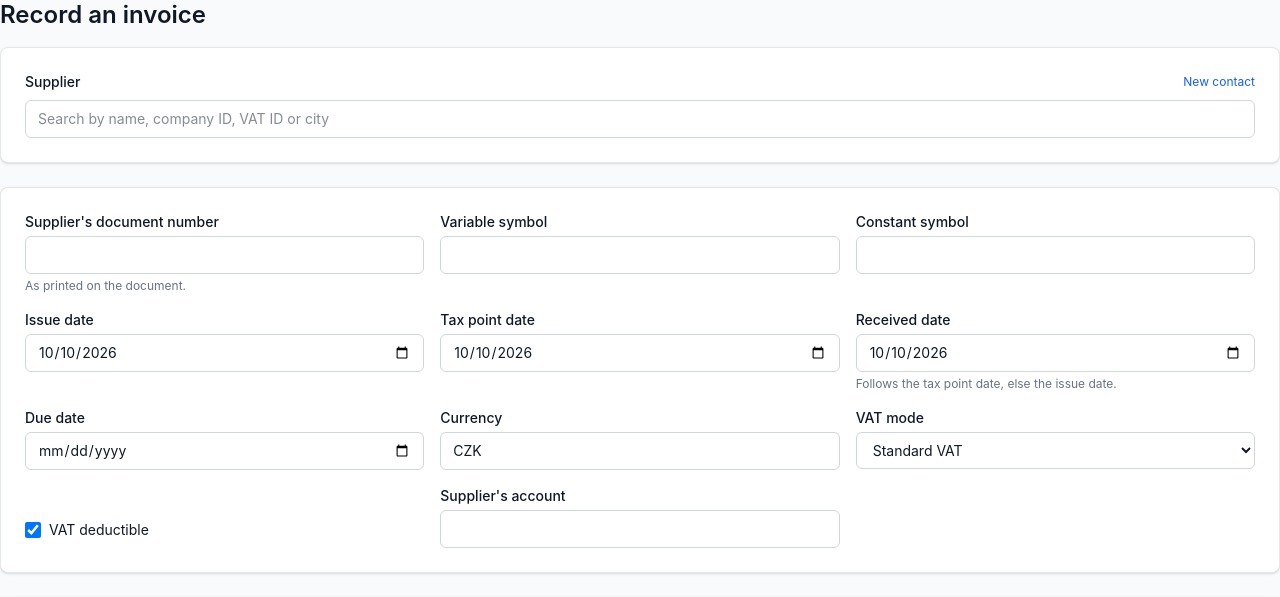
Test: ReceivedEditView › follows the tax point with the received date and the total with the payable until edited
Type "2026-09-30" into the date field with id "rec-taxPointDate" at (640, 353), box [440,334,840,372]
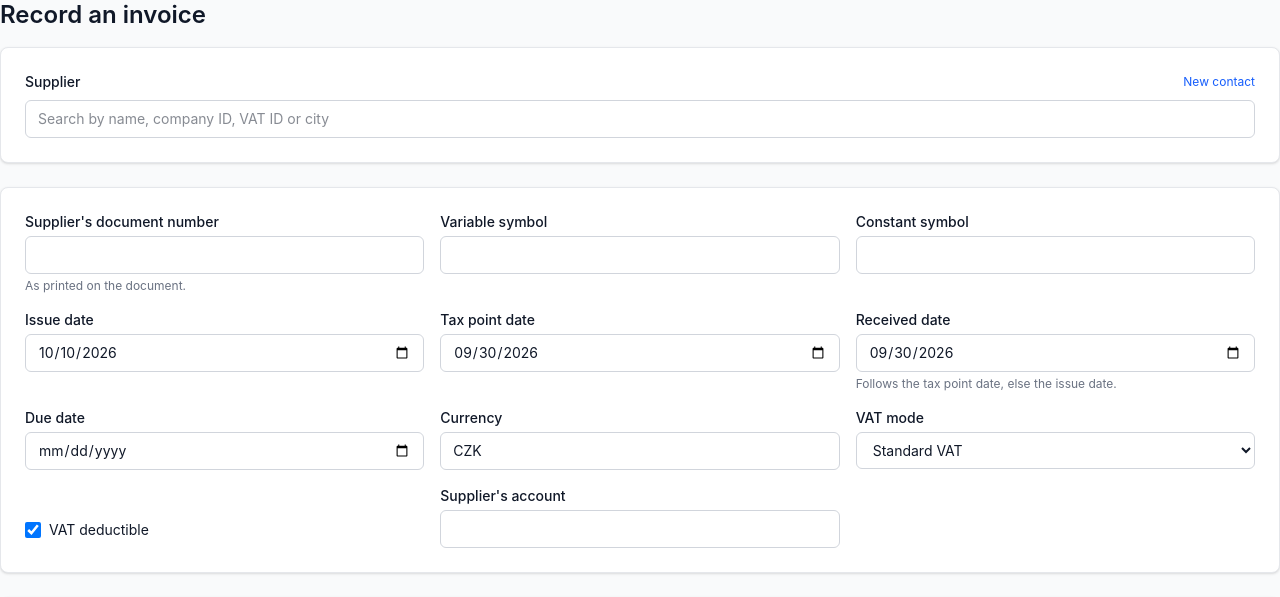
expect the date field with id "rec-receivedDate" holds "2026-09-30": met
Type "2026-10-02" into the date field with id "rec-receivedDate" at (1055, 353), box [856,334,1255,372]
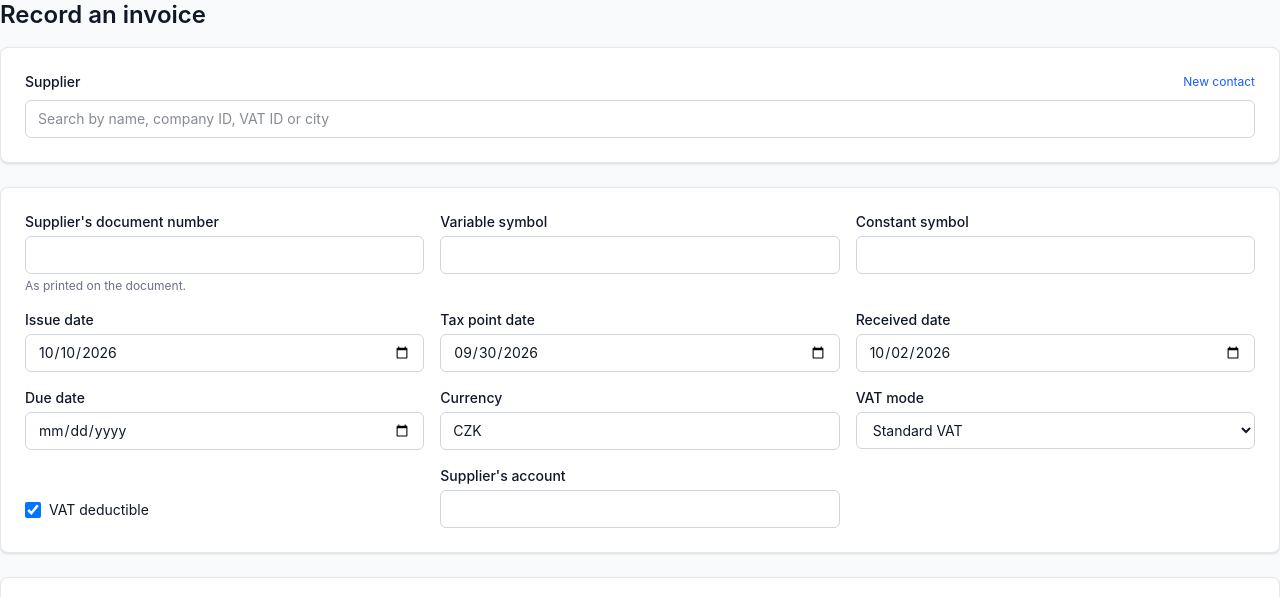
Type "2026-09-29" into the date field with id "rec-taxPointDate" at (640, 353), box [440,334,840,372]
(page scrolled)
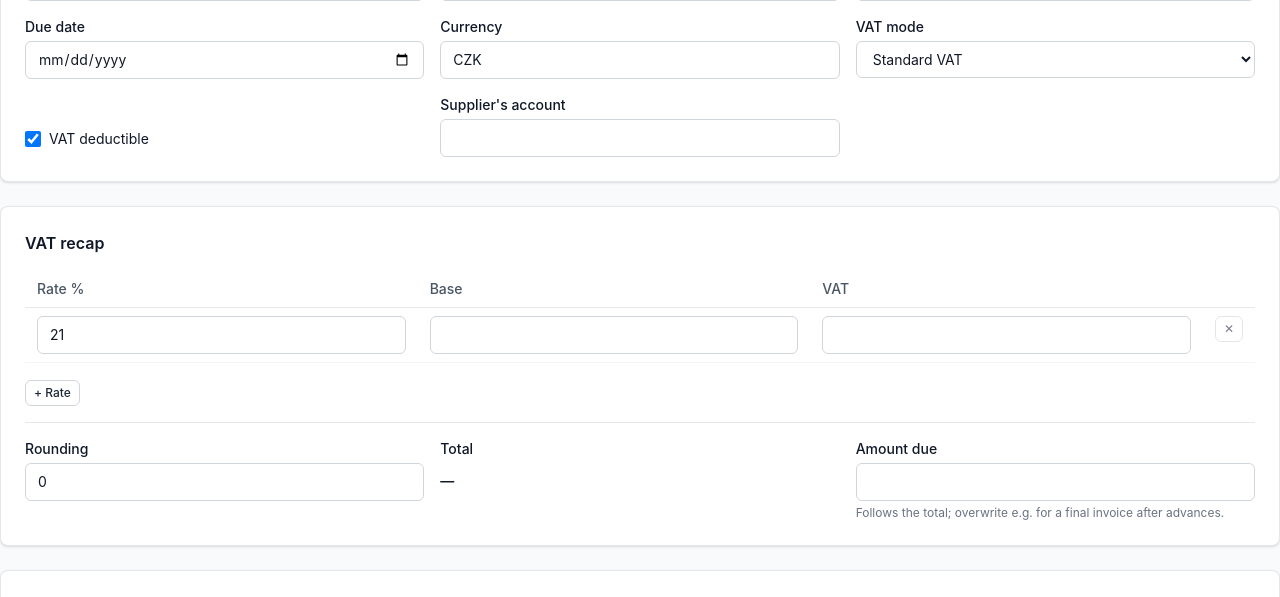
Type "1000" into the field with id "recap-0-base" at (614, 335), box [430,316,798,354]
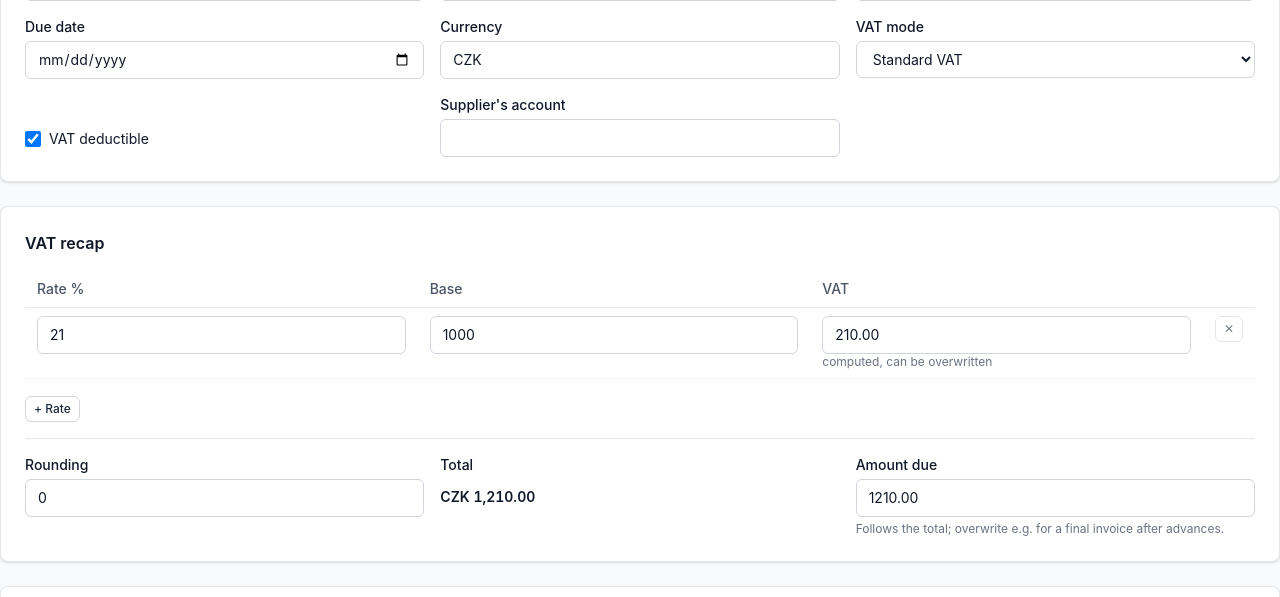
expect the field with id "recap-0-vat" holds "210.00": met, box [822,316,1191,354]
expect the text with test id "recap-total" shows "1,210.00": met, box [440,488,535,505]
expect the field with id "rec-payable" holds "1210.00": met
Replace the text in the field with id "rec-payable" with "500" at (1055, 498), box [856,479,1255,517]
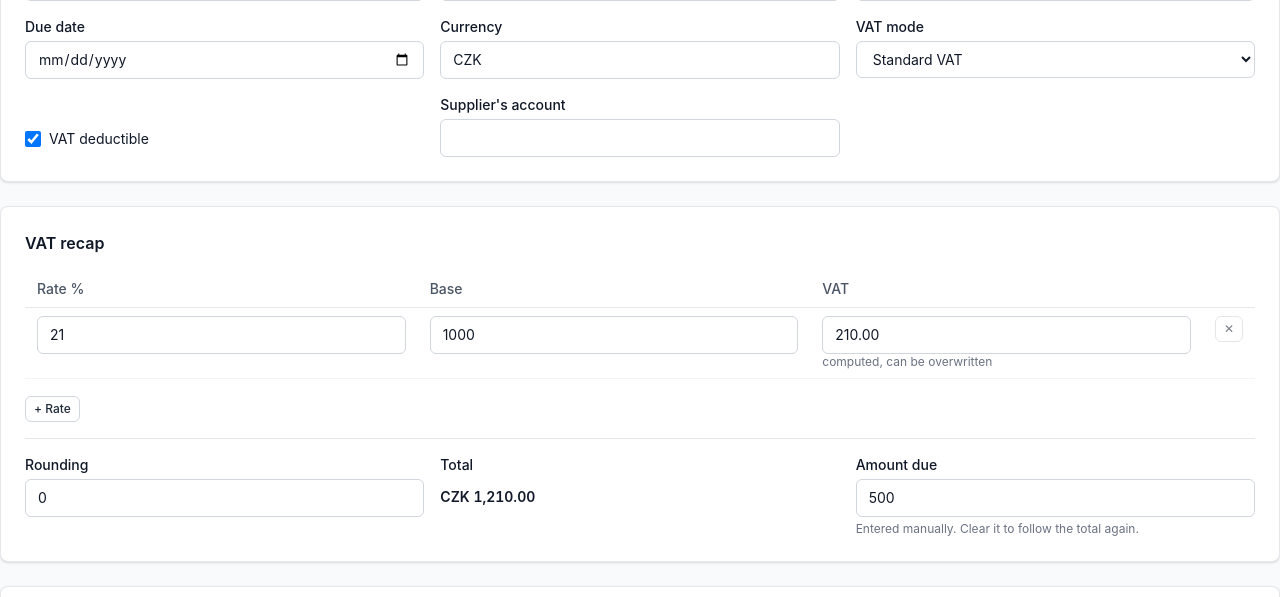
Replace the text in the field with id "recap-0-base" with "2000" at (614, 335), box [430,316,798,354]
Select "Reverse charge" in the dropdown with id "rec-vatMode" at (1055, 60), box [856,41,1255,78]
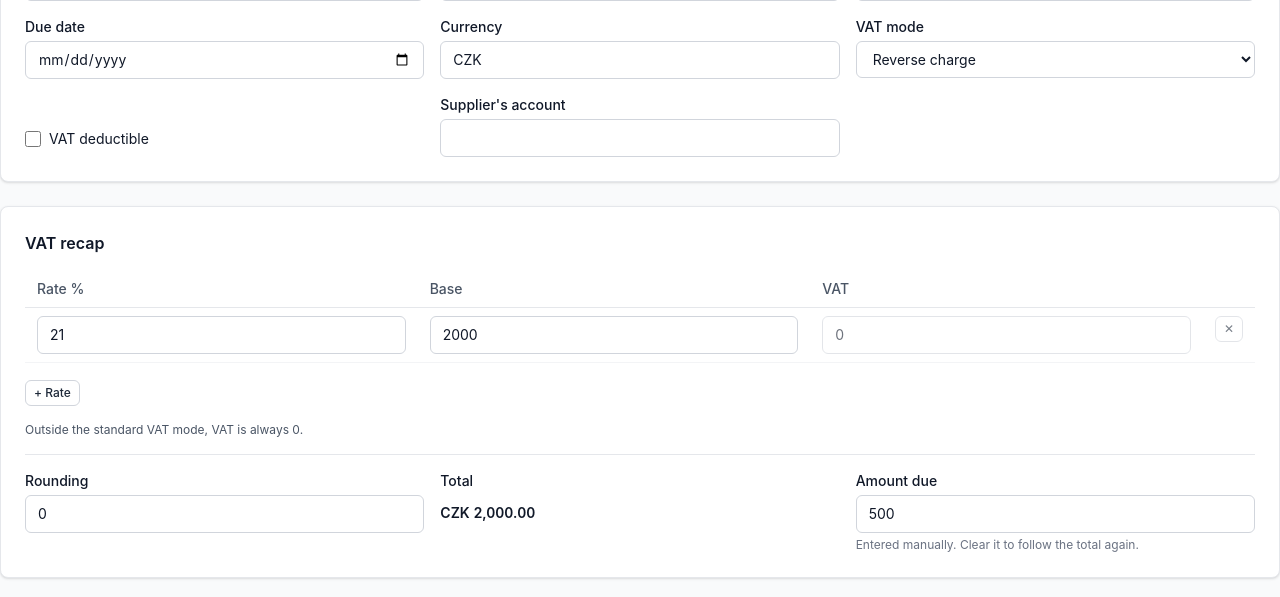
expect the field with id "recap-0-vat" holds "0": met, box [822,316,1191,354]
expect the checkbox with id "rec-vatDeductible" is not checked: met, box [25,131,41,147]
